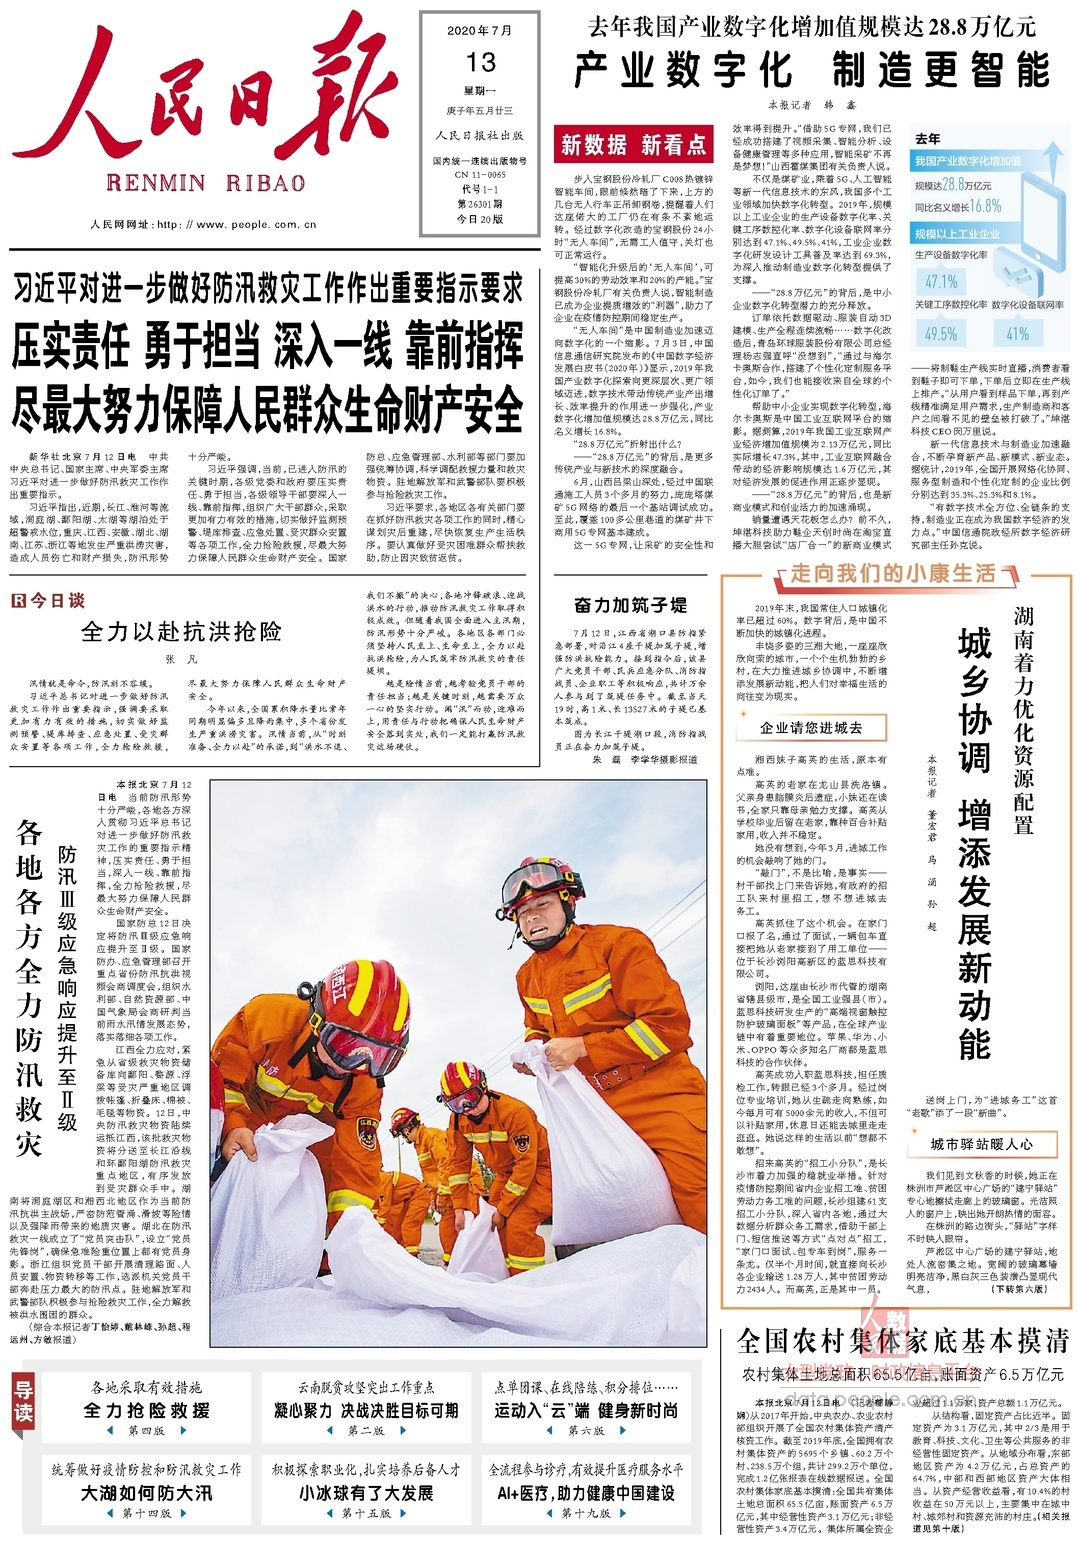pic: (206, 775, 711, 1352)
